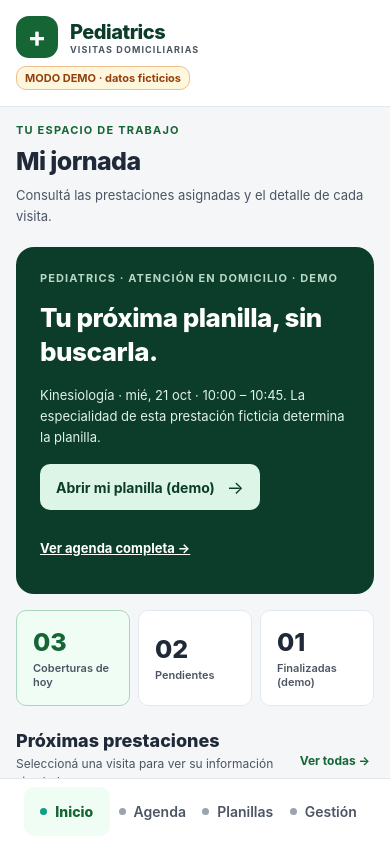
it: HC-03B: verified-source form previews only › nursing sheet retains its time field and distinct family and professional evidence
Click the tab "Planillas". click: [238, 812]
box: [202,803,273,820]
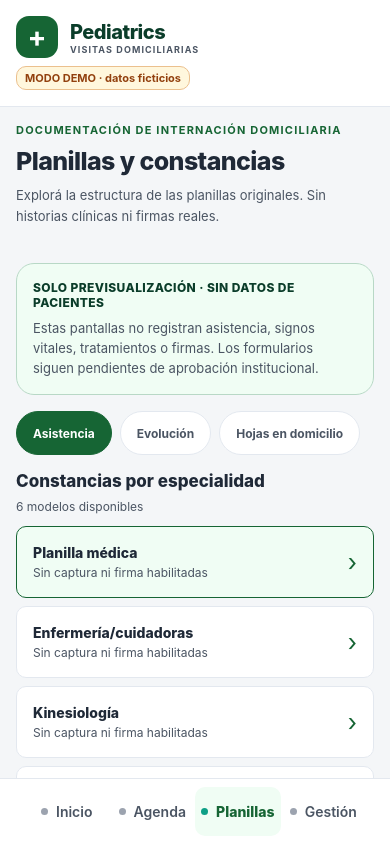
Click the button with aria-label "Ver estructura de Enfermería/cuidadoras". click: [195, 642]
box: [16,606,374,678]
(page scrolled)
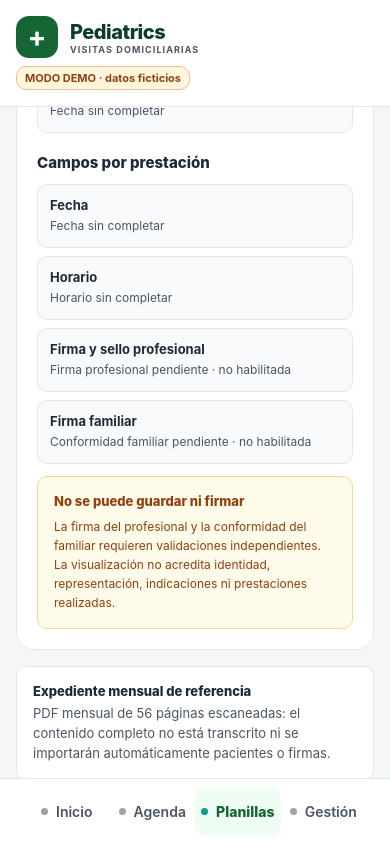
Check: the text "Horario" is shown, box [50,269,97,285]
Check: the text "Firma y sello profesional" is shown, box [50,341,205,357]
Check: the text "Firma familiar" is shown, box [50,413,137,429]
